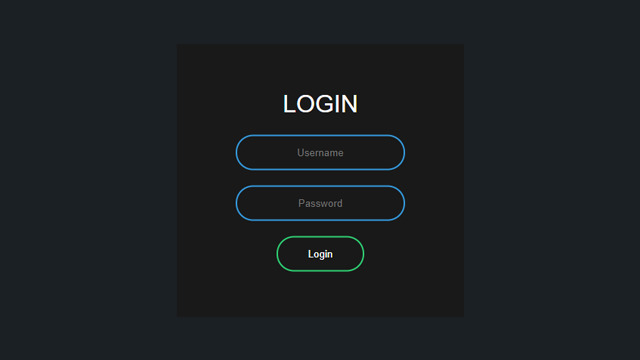_form_: (179, 52, 453, 316)
button: (271, 233, 364, 274)
field: (231, 131, 408, 173), (230, 184, 406, 222)
